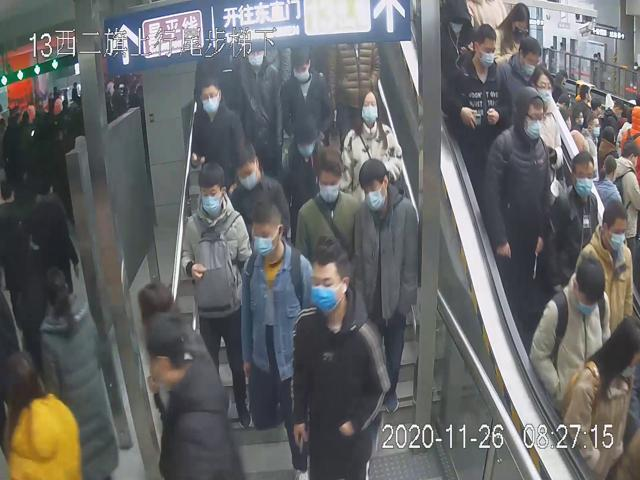person: (287, 237, 391, 476), (238, 187, 313, 480), (177, 153, 251, 431), (479, 84, 553, 343), (357, 153, 421, 412), (288, 148, 363, 294), (335, 85, 406, 209), (448, 18, 511, 156), (272, 110, 337, 239), (187, 72, 248, 184), (229, 142, 291, 250), (280, 39, 335, 146)
